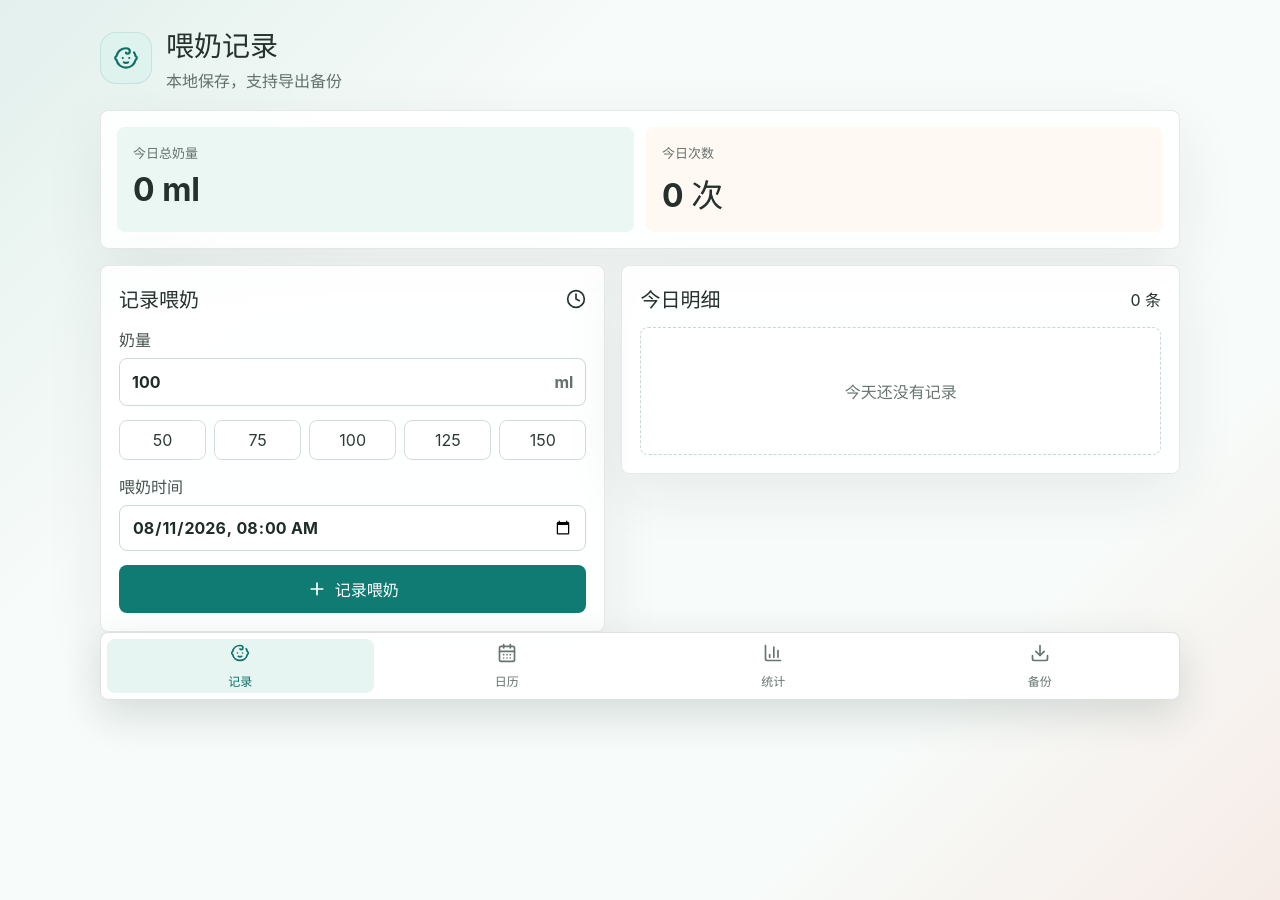
Test: App › records and deletes a feeding entry from the home screen
This screenshot has width=1280, height=900.
Expected: the text "今日总奶量" is shown, [133, 145, 198, 161]
Replace the text in the field labelled "奶量" with "120" at (337, 382), box [120, 359, 554, 405]
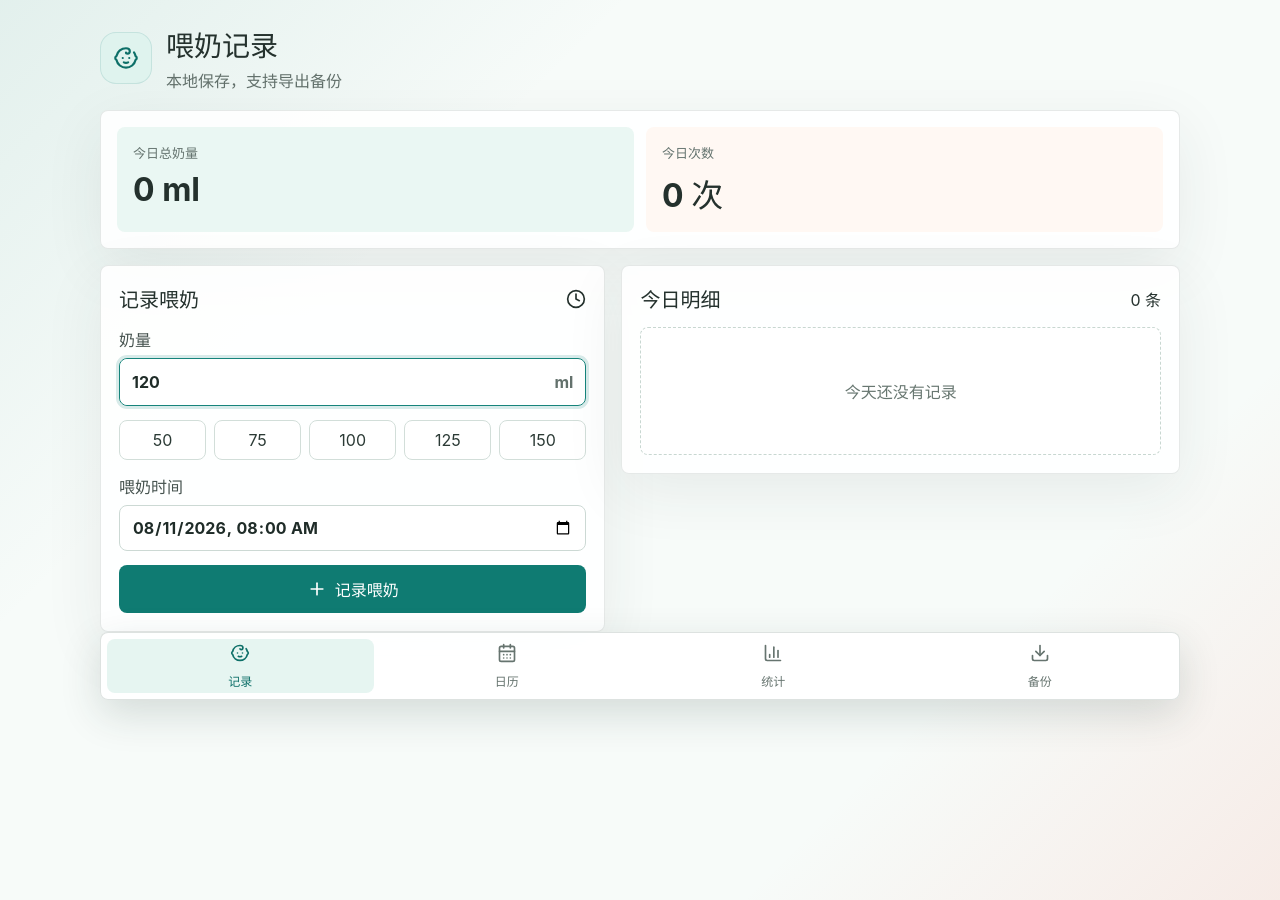
Click the button "记录喂奶" at (353, 589), box [119, 565, 586, 613]
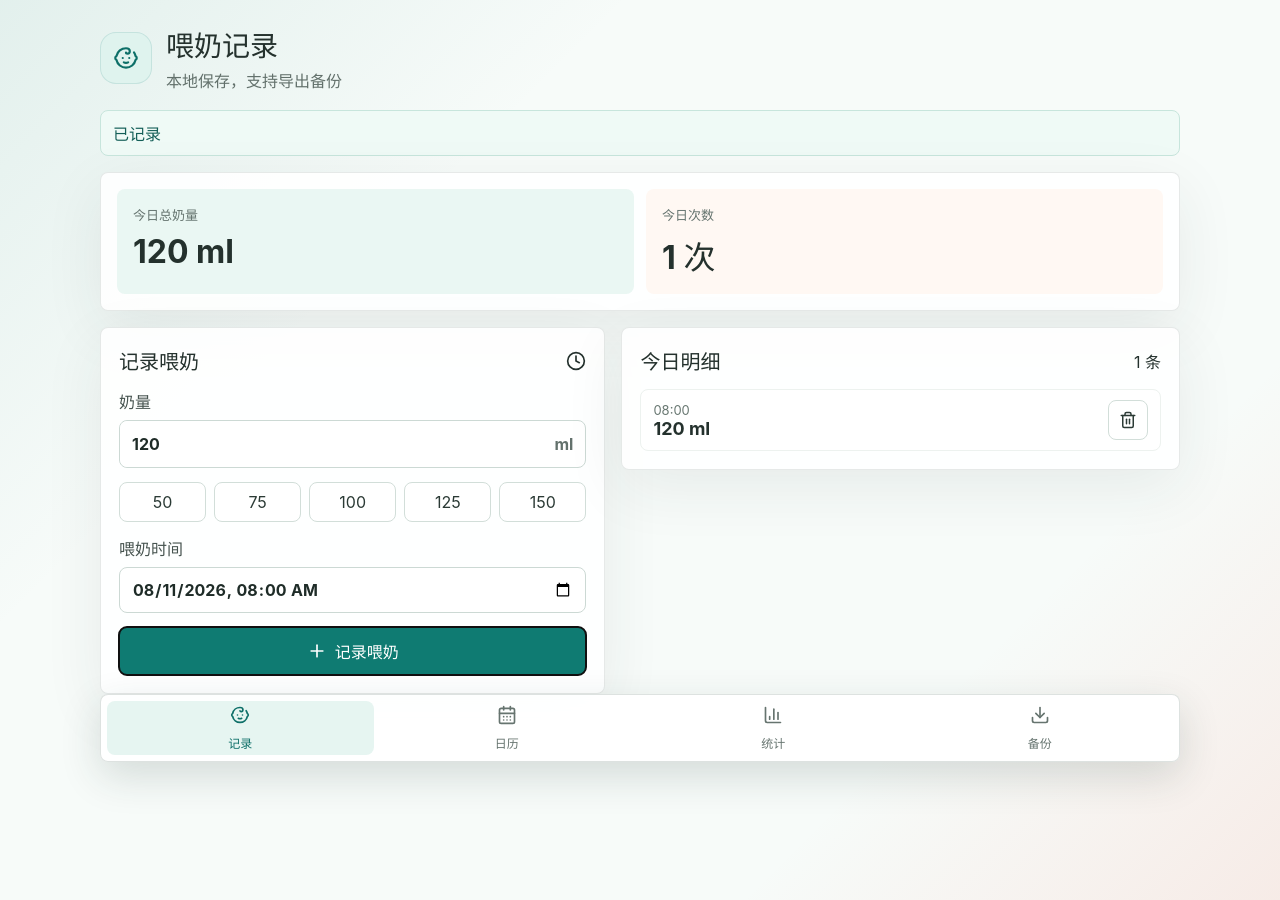
Result: the text "1 次" is shown at [662, 238, 715, 277]
Click the button named "删除 120 ml 记录" at (1128, 420), box [1108, 400, 1148, 440]
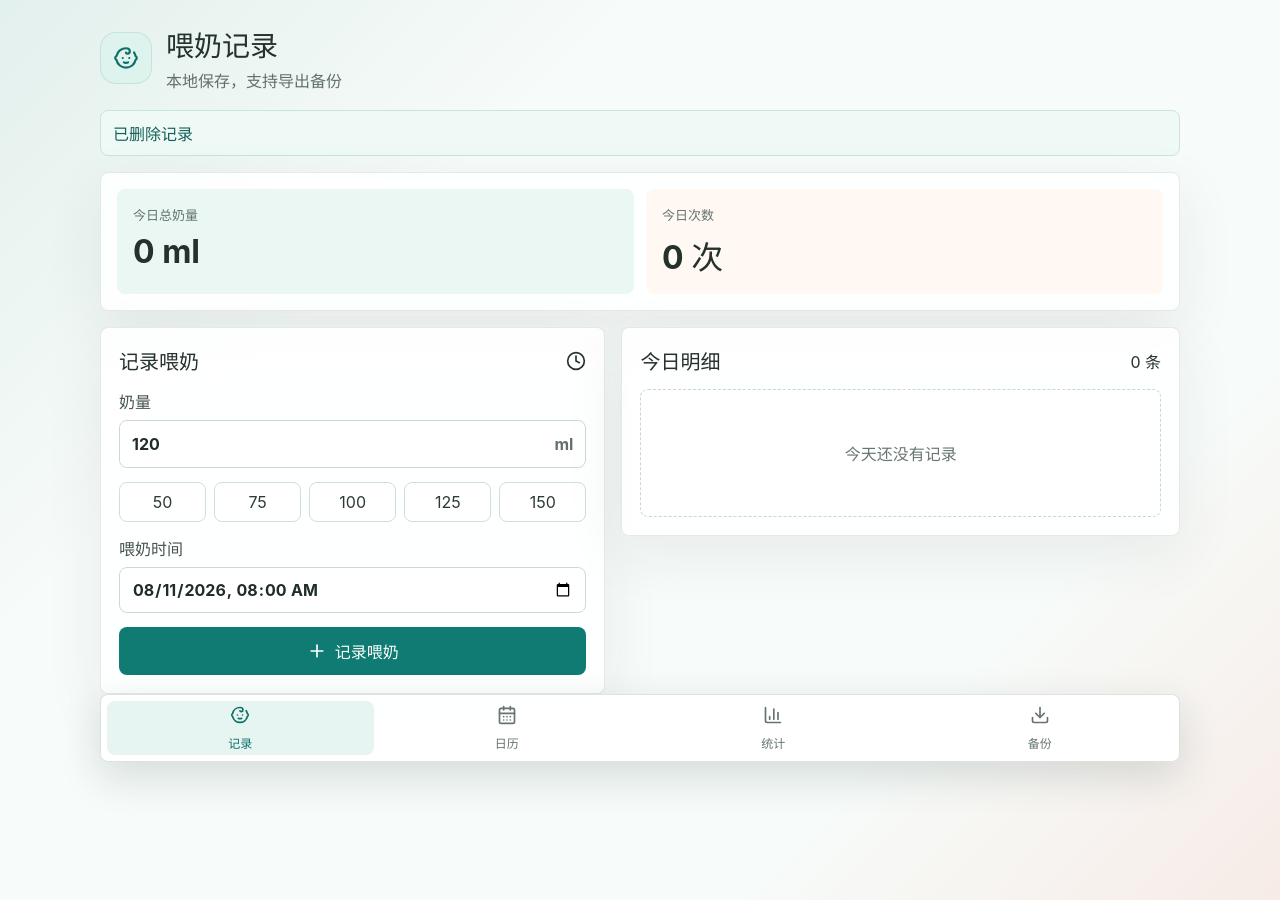
Expected: the text "0 ml" is shown, [133, 232, 200, 271]
Result: the text "0 次" is shown at [662, 238, 723, 277]
